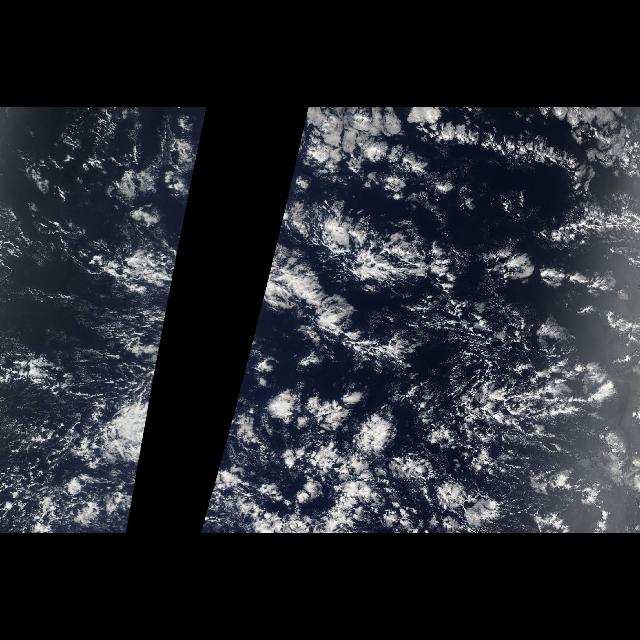Fish: (271, 186, 637, 364)
Flower: (215, 110, 640, 484)
Gravel: (430, 308, 598, 480)
